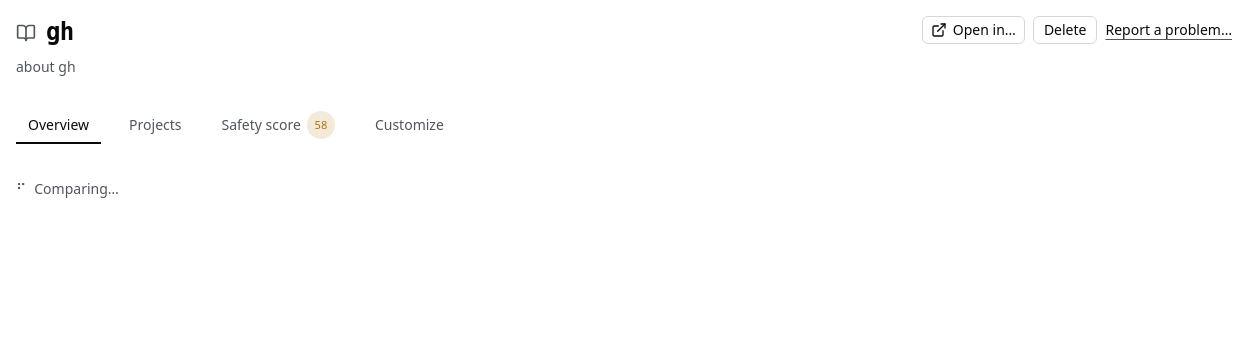
Test: the package page's safety tab › carries the score while a comparison is open
Click the tab "Safety score 58": (278, 125) [210,103,347,147]
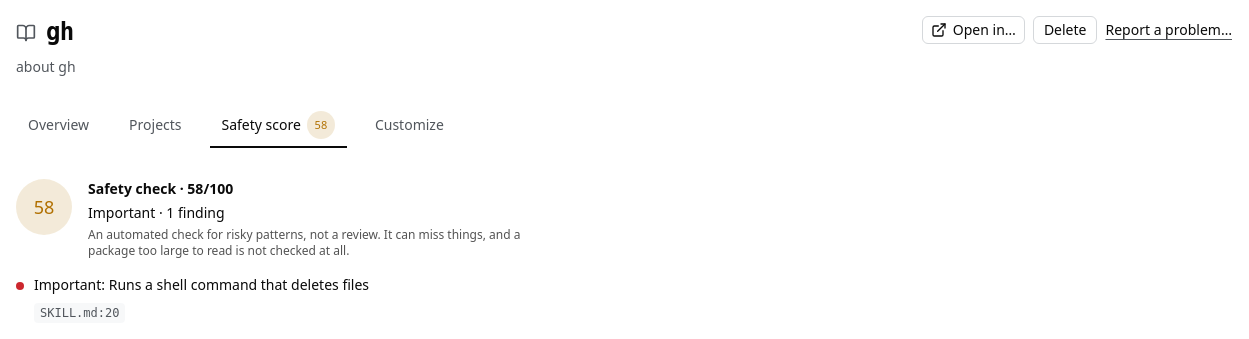
Now the text "58/100" is shown, box [88,179,233,198]
Now the text "SKILL.md:20" is shown, box [34,303,126,323]
